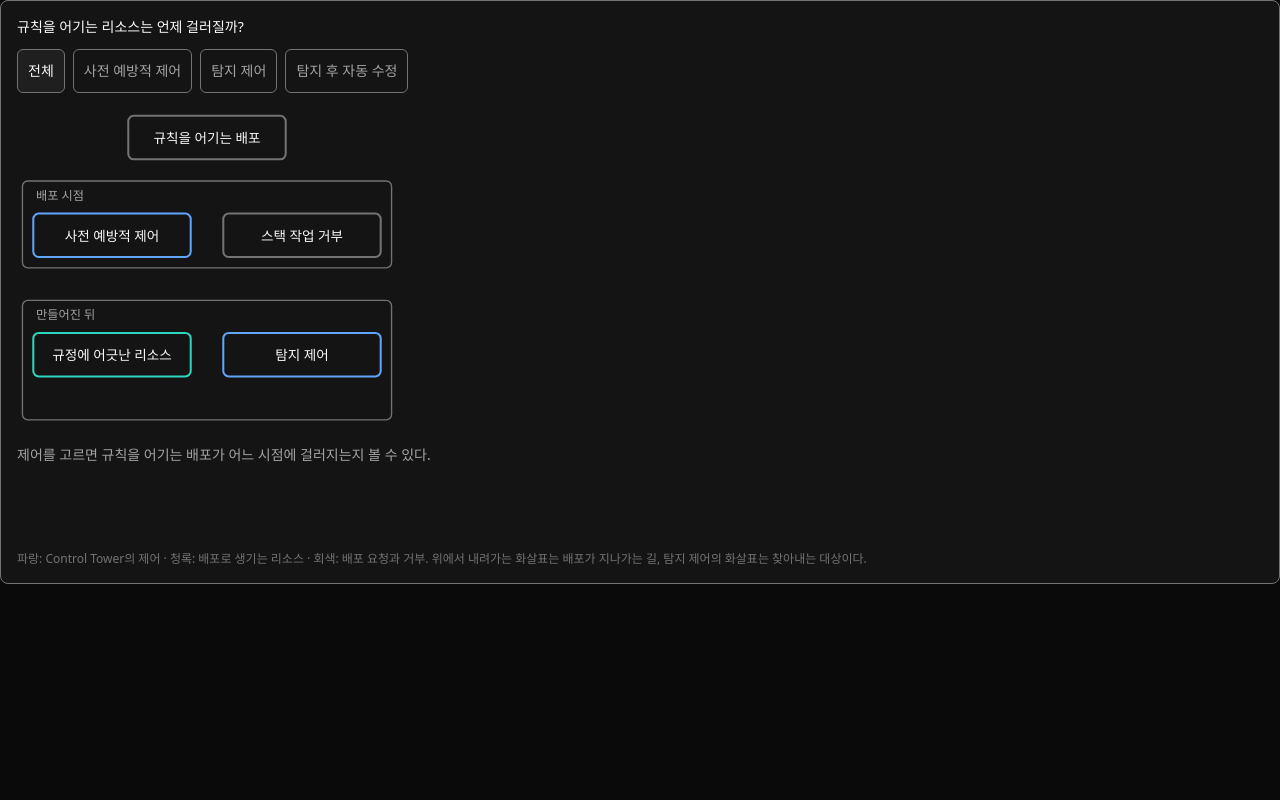
ControlTimingDiagram › 가로형 (768px 이상) › 세로형에서 고른 시나리오가 폭을 바꾸어도 유지된다
The width and height of the screenshot is (1280, 800).
Click the button "탐지 후 자동 수정" at (347, 71), box x1=285 y1=49 x2=408 y2=93
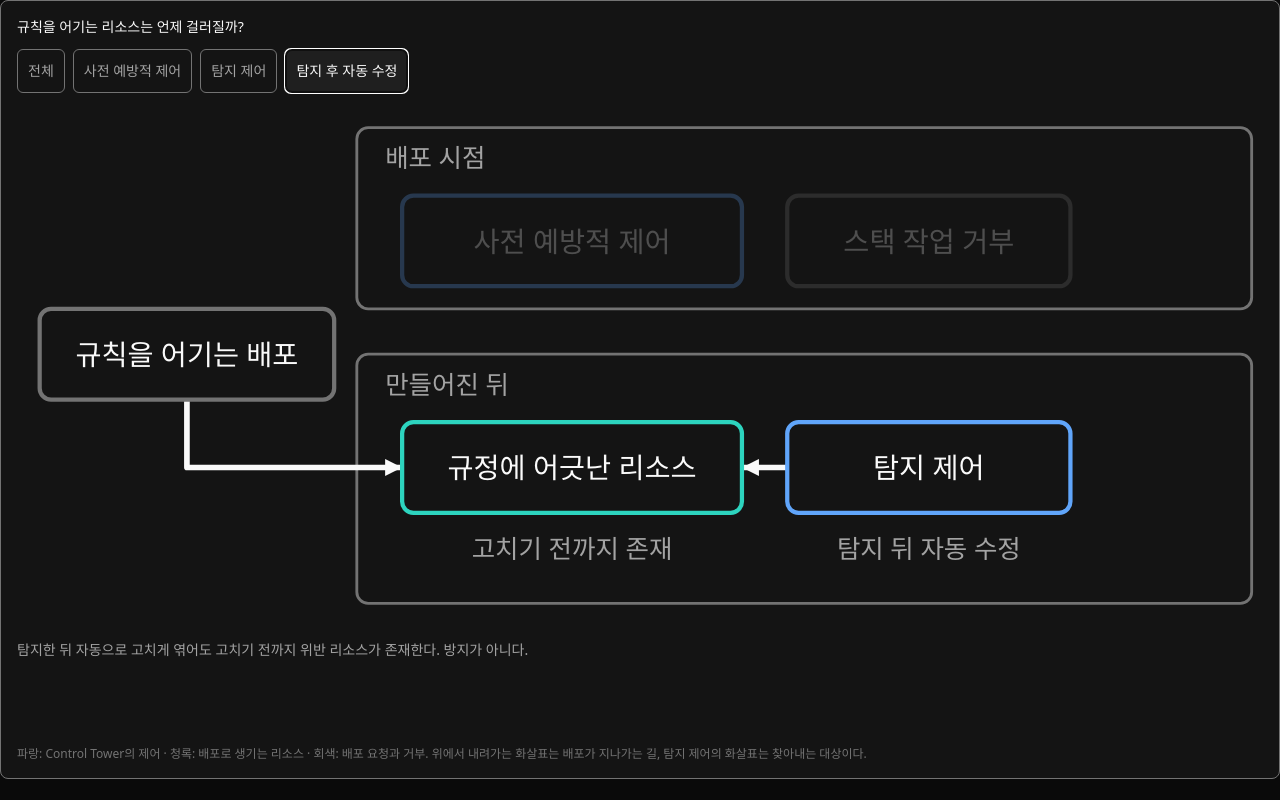
Expected: the text "탐지한 뒤 자동으로 고치게 엮어도 고치기 전까지 위반 리소스가 존재한다. 방지가 아니다." is shown, x1=17 y1=640 x2=528 y2=659
